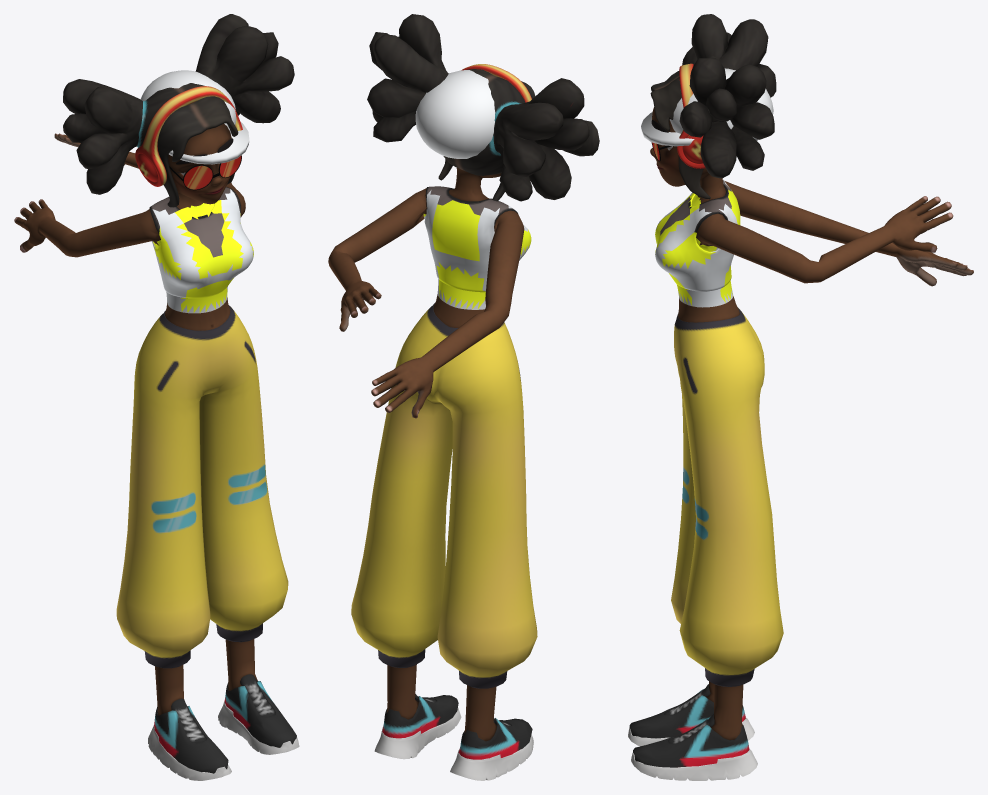
The model's file is trabajador_encargado.glb.
The picture shows the model from 3 angles, left to right: view 1: azimuth 30°, elevation 25°; view 2: azimuth 150°, elevation 25°; view 3: azimuth 270°, elevation 25°; orthographic projection. The views are drawn at different scales.
Visible parts, largest first — view 1: Ch03, Sphere, Cylinder; view 2: Ch03, Sphere; view 3: Ch03, Cylinder, Sphere.
Boxes of the visible parts, x1,y1,x2,y2 form: Ch03: (14, 14, 299, 780); Sphere: (140, 70, 236, 134); Cylinder: (169, 122, 249, 164); Ch03: (328, 14, 599, 780); Sphere: (415, 70, 495, 158); Ch03: (628, 14, 973, 780); Cylinder: (641, 112, 694, 146); Sphere: (669, 68, 773, 140).
Bounding box in the file's own units: 0.5786 × 1.8 × 0.786.
Materials: 4 (1 with a texture image).
